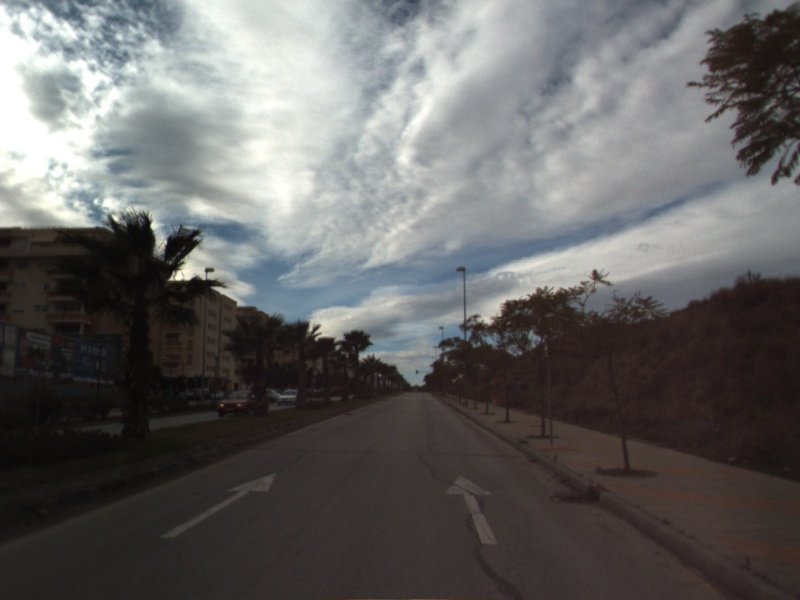STRAIGHT: (158, 470, 279, 540), (443, 473, 499, 546)
